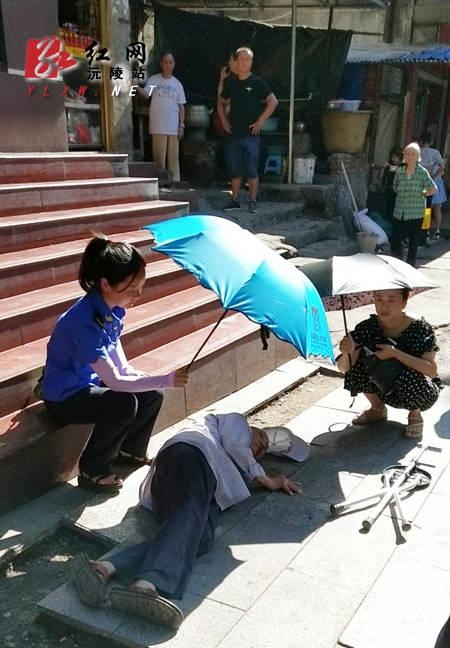falling: (57, 397, 303, 637)
